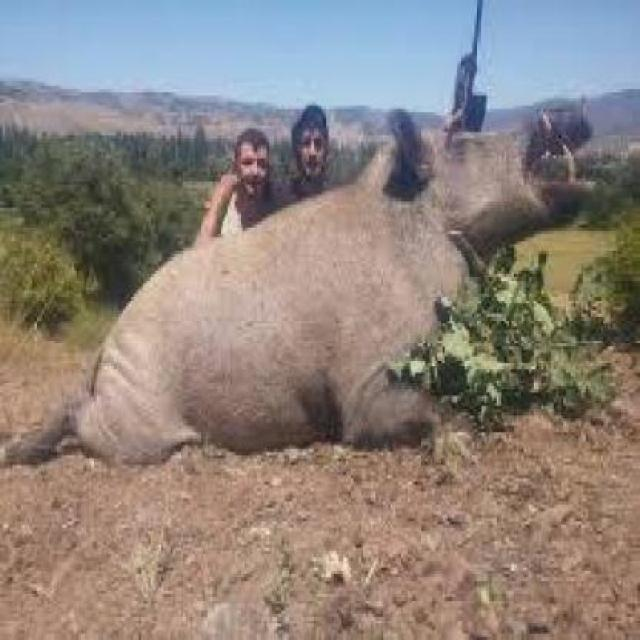wildboar: (0, 94, 609, 497)
